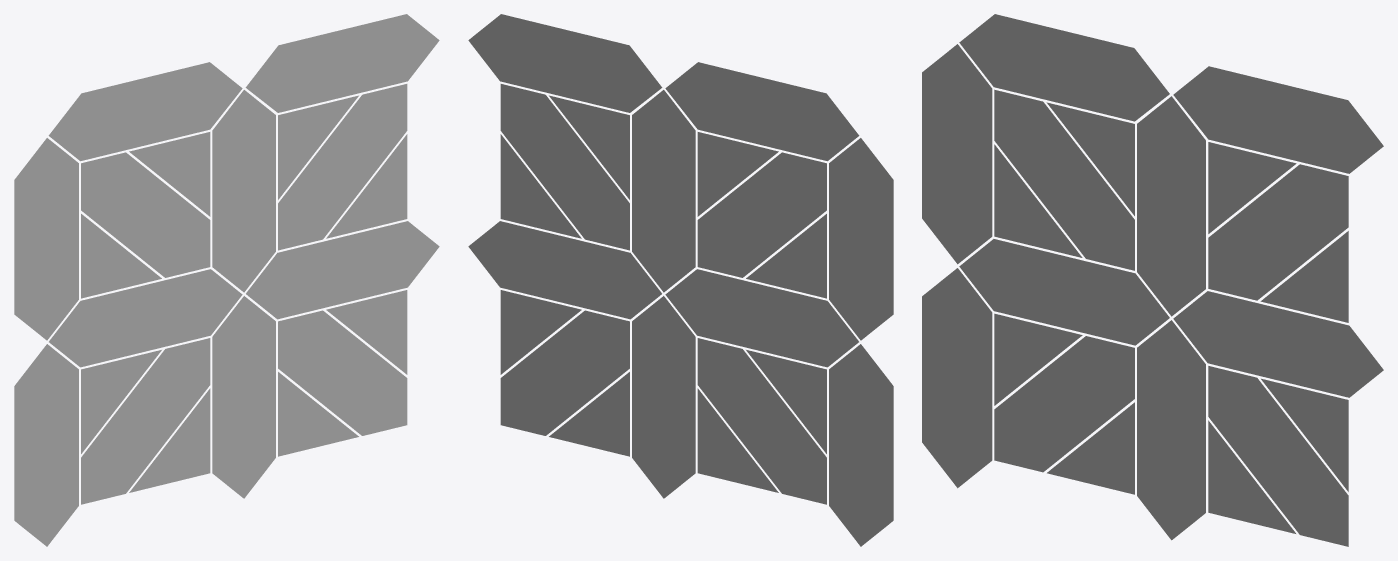
File: geopicket.gltf
3 views of the same model, side by side, from view 1: azimuth 30°, elevation 25°; view 2: azimuth 150°, elevation 25°; view 3: azimuth 330°, elevation 25° (orthographic). The views are drawn at different scales.
Parts seen in each view (by area): view 1: geopicket; view 2: geopicket; view 3: geopicket.
Part boxes in pixels (x1,y1,x2,y2): geopicket: (14,14,439,546); geopicket: (468,14,893,546); geopicket: (922,14,1383,546).
Size of the model in its own units: 329 by 329 by 0.
20 materials, 20 textured.
